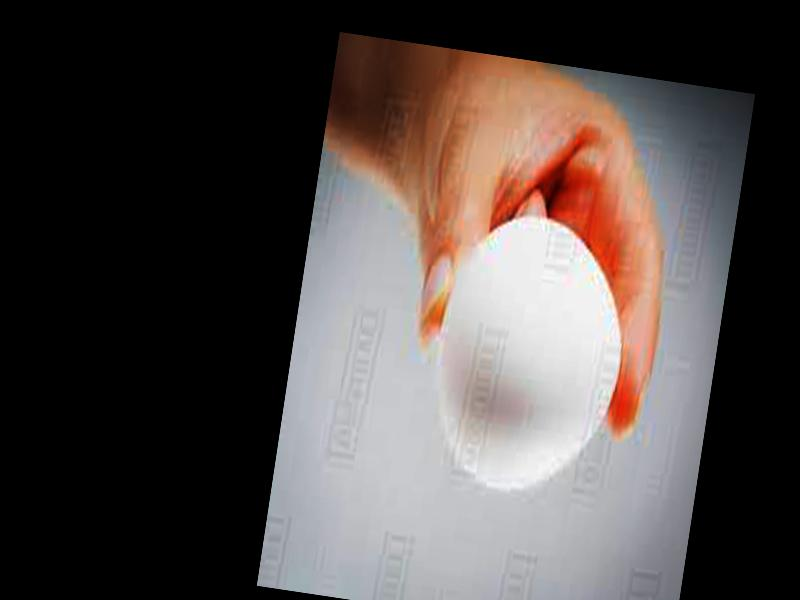Eggs: (422, 207, 639, 503)
